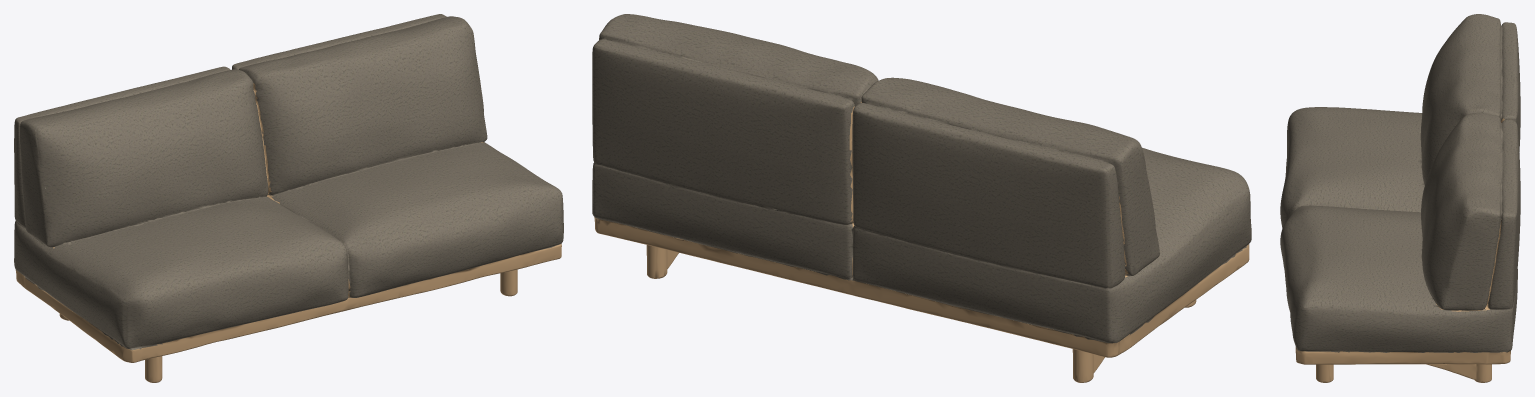
3 renders of one model, left to right at view 1: azimuth 30°, elevation 25°; view 2: azimuth 150°, elevation 25°; view 3: azimuth 270°, elevation 25°, orthographic. The views are drawn at different scales.
Visible parts, largest first — view 1: tripo_node_33061910-052f-456d-b53c-411d2a60da8f; view 2: tripo_node_33061910-052f-456d-b53c-411d2a60da8f; view 3: tripo_node_33061910-052f-456d-b53c-411d2a60da8f.
Boxes of the visible parts, <box> form: tripo_node_33061910-052f-456d-b53c-411d2a60da8f: <box>14,14,563,382</box>; tripo_node_33061910-052f-456d-b53c-411d2a60da8f: <box>592,14,1251,382</box>; tripo_node_33061910-052f-456d-b53c-411d2a60da8f: <box>1280,14,1520,382</box>.
Size of the model in its own units: 1.6 by 0.7 by 0.8.
Materials: 2 (1 with a texture image).
